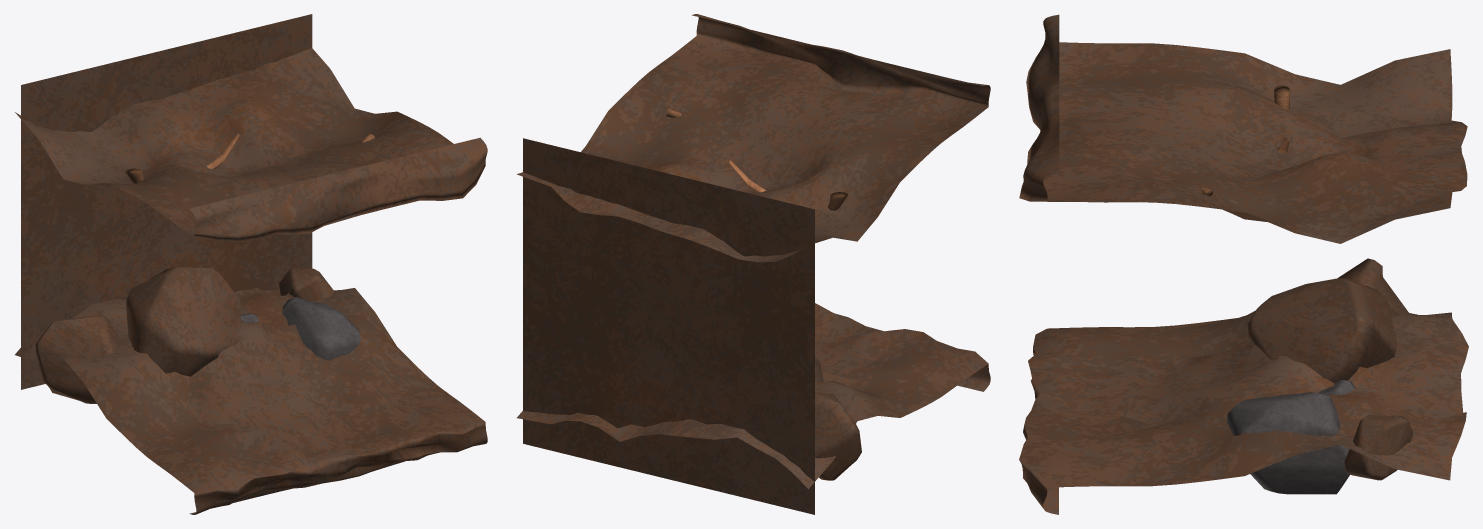
Rendered from BackgroundScene_02.fbx.
The picture shows the model from 3 angles, left to right: view 1: azimuth 30°, elevation 25°; view 2: azimuth 150°, elevation 25°; view 3: azimuth 270°, elevation 25°; orthographic projection. The views are drawn at different scales.
Parts seen in each view (by area): view 1: BackgroundScene_02; view 2: BackgroundScene_02; view 3: BackgroundScene_02.
Part boxes in pixels (x1=…): BackgroundScene_02: x1=15, y1=14, x2=487, y2=514; BackgroundScene_02: x1=517, y1=14, x2=990, y2=514; BackgroundScene_02: x1=1019, y1=14, x2=1468, y2=514.
Size of the model in its own units: 10.45 by 10.44 by 11.95.
